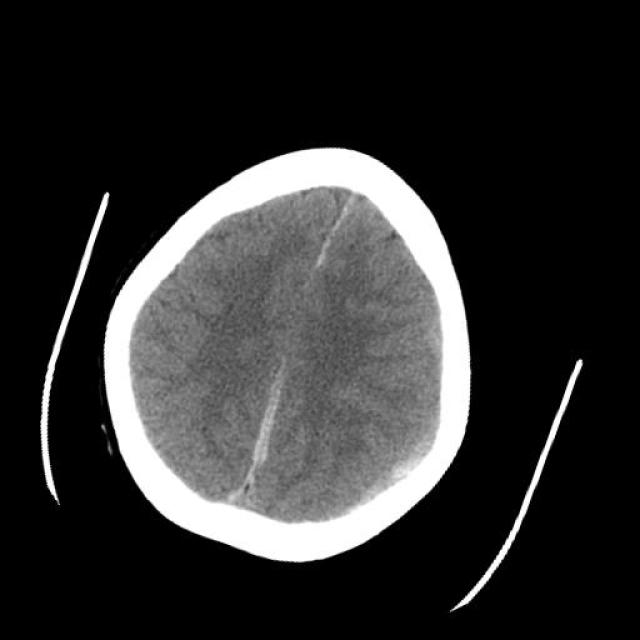Subdural: (198, 330, 348, 545)
